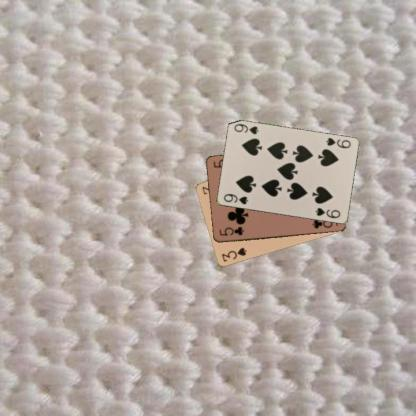3s: (219, 245, 248, 263)
5c: (217, 224, 245, 237)
9s: (323, 135, 352, 150), (221, 191, 249, 206)
